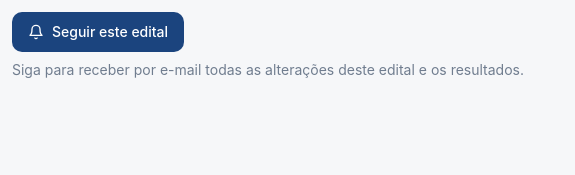
Test: Estado confirmado do acompanhamento › mantém o estado anterior até a gravação ser confirmada
The image size is (575, 175).
Later steps or results of the test are not shown.
Click the button "Seguir este edital": x=98, y=32 x1=12 y1=12 x2=184 y2=52
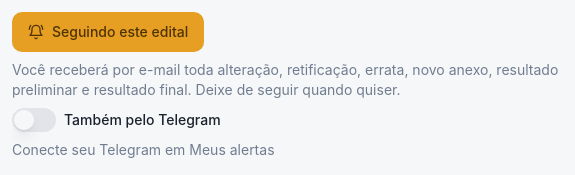
Result: the button "Seguindo este edital" is pressed at x1=12 y1=12 x2=204 y2=52
